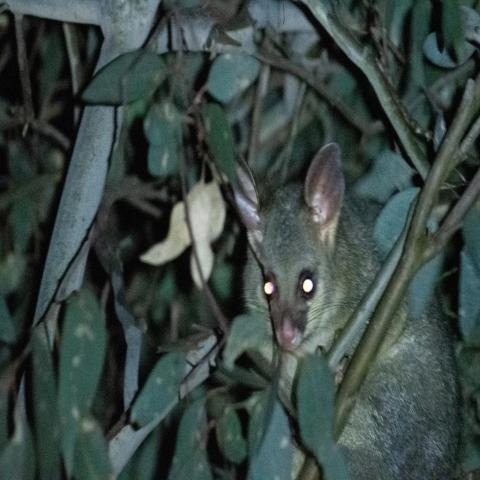small_animal: (234, 140, 464, 476)
